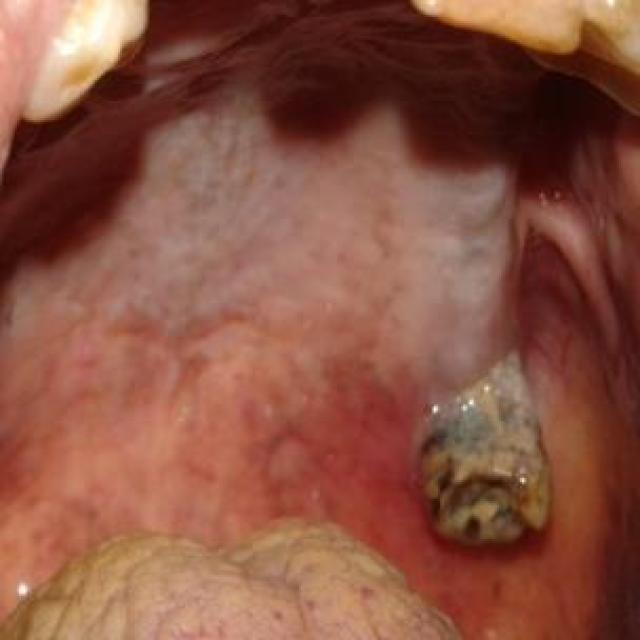leukoplakia-detection: (35, 79, 520, 398)
processing_area: (0, 2, 638, 638)
